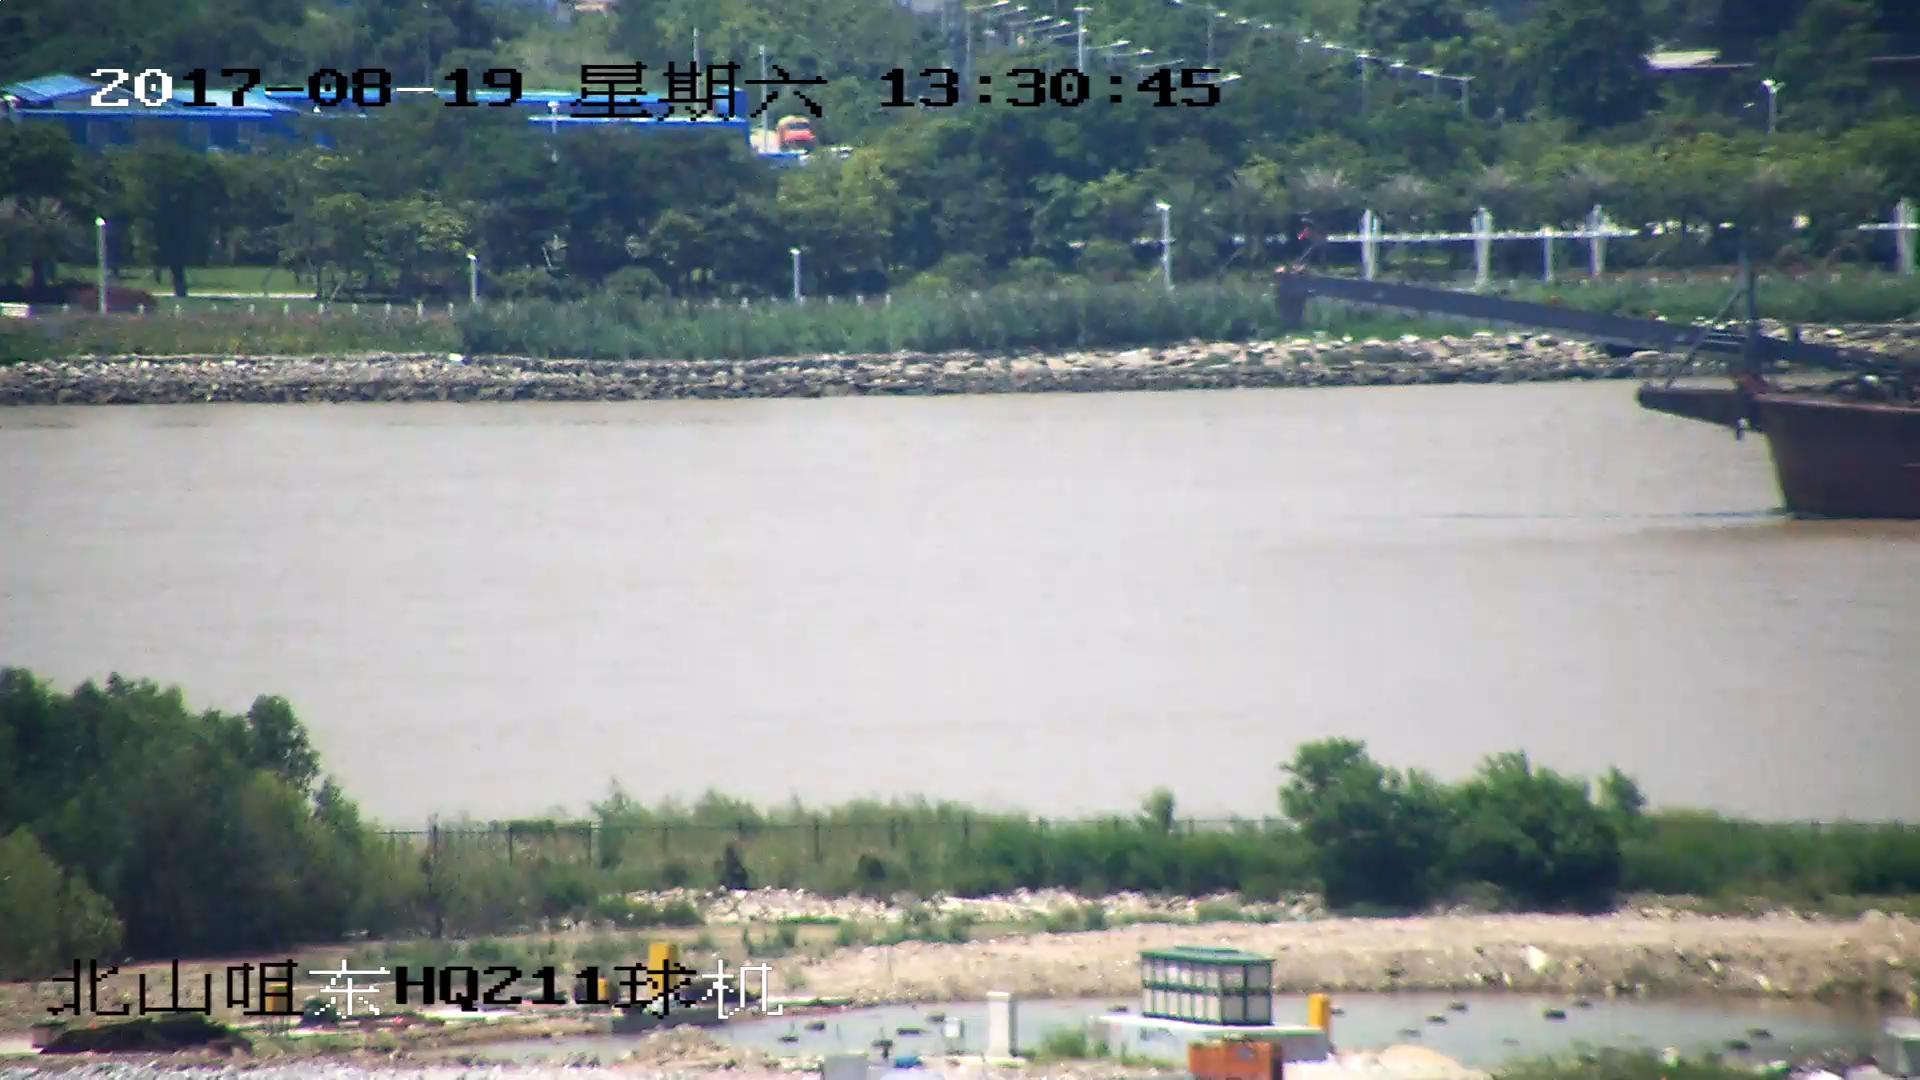Ship: (1283, 235, 1920, 524)
